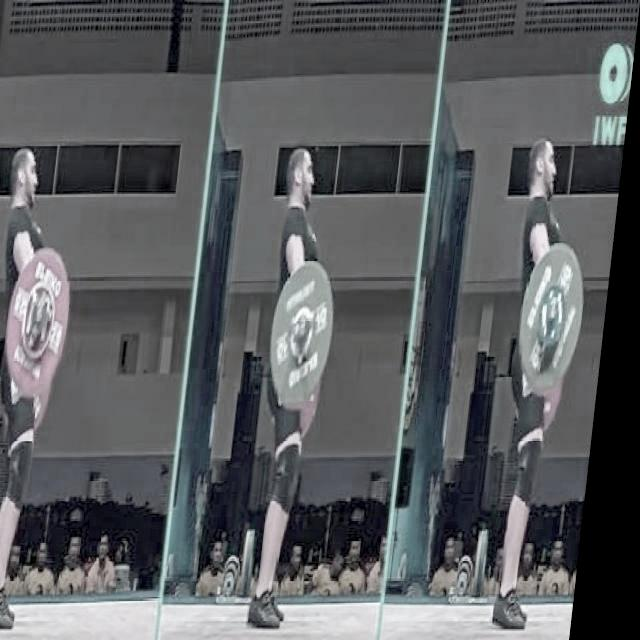barbell: (517, 235, 600, 399), (6, 242, 91, 402), (267, 257, 352, 410)
